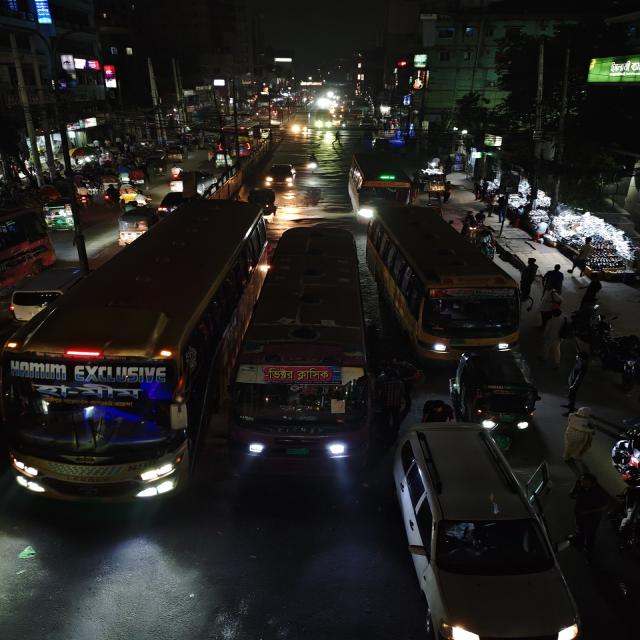bus: (6, 201, 262, 520), (227, 226, 383, 472), (392, 426, 565, 640), (364, 207, 526, 354), (0, 204, 57, 303), (344, 151, 416, 219)
car: (3, 264, 84, 318), (157, 190, 193, 215), (263, 162, 297, 188)
cng: (448, 348, 542, 434), (40, 196, 80, 232), (248, 186, 280, 215), (146, 157, 170, 177), (164, 144, 187, 162), (213, 150, 235, 168)
motorcycle: (608, 480, 640, 565), (606, 419, 640, 489), (102, 183, 122, 209), (301, 152, 321, 173), (165, 165, 184, 182)
pedestrian: (567, 471, 609, 555), (560, 405, 598, 466), (536, 290, 565, 328), (542, 263, 566, 295)
rickshaw: (117, 165, 150, 188)
